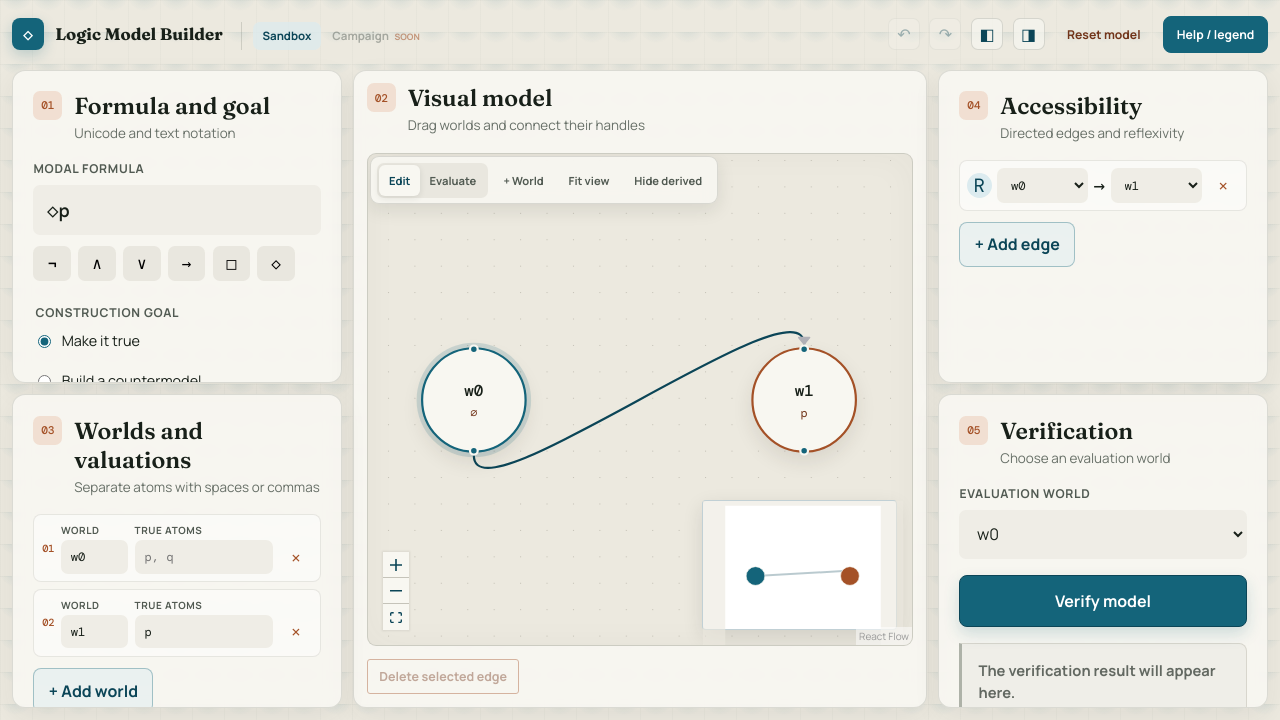
Test: sandbox user interface › shows a parser error for an empty formula
Clear the field labelled "Modal formula" at (177, 210), box [34,186,321,235]
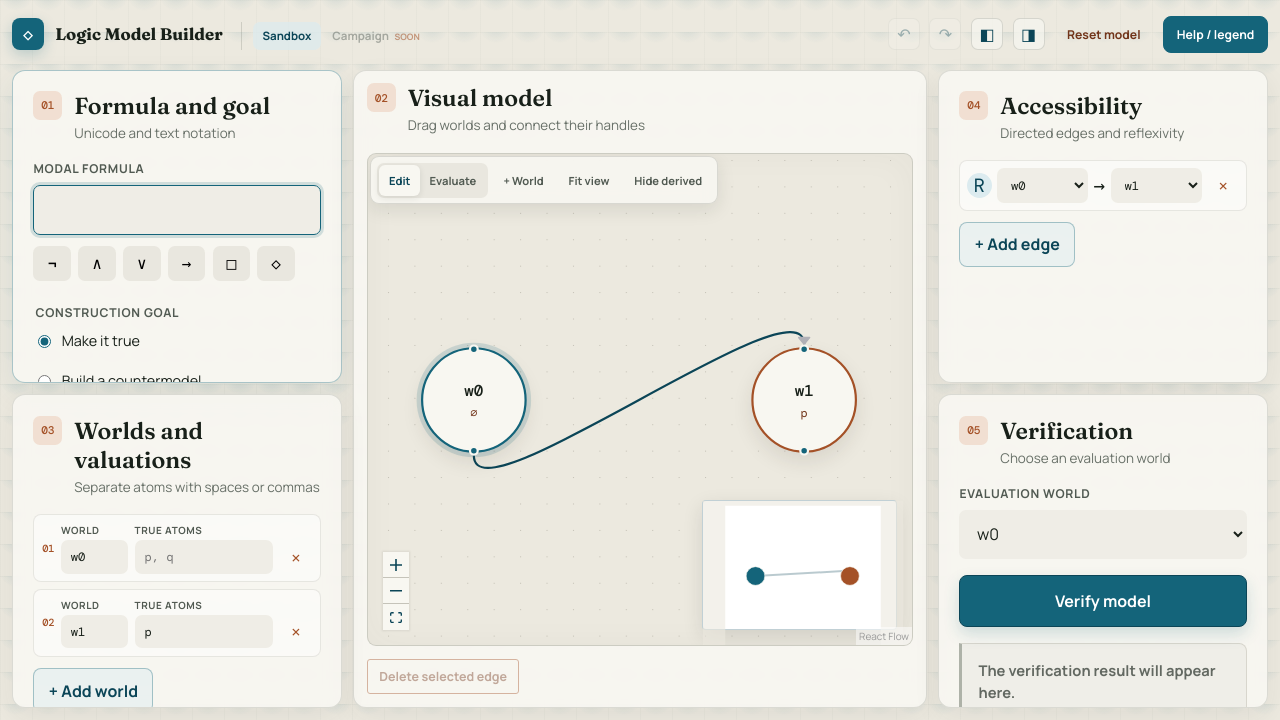
Click the button "Verify model" at (1103, 601), box [960,575,1247,627]
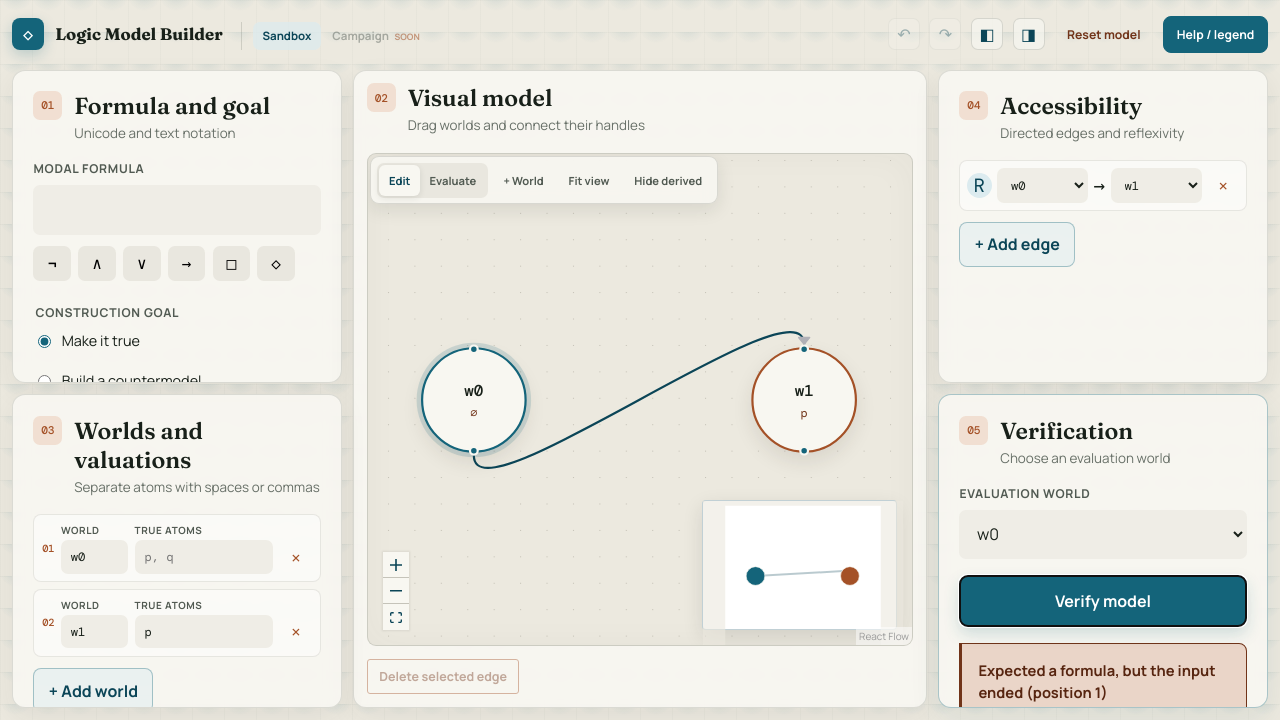
Result: the text "Expected a formula, but the input ended (position 1)" is shown at [978,659,1230,703]
